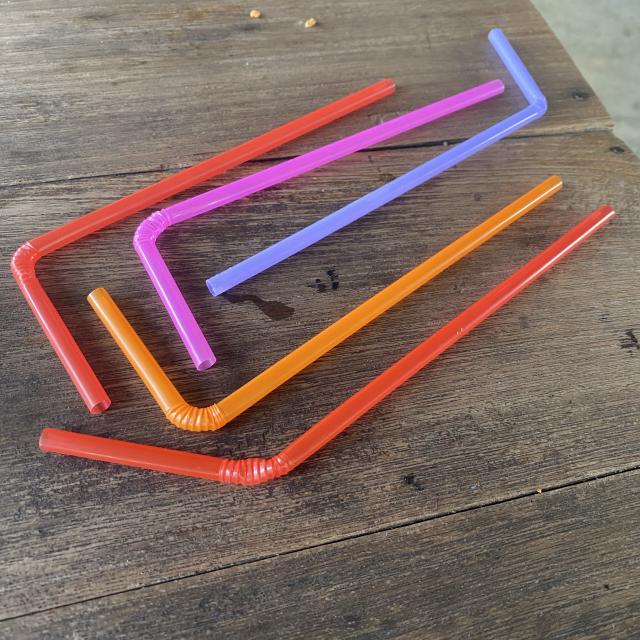Single-Use-Plastic: (40, 205, 615, 485), (11, 79, 395, 414), (88, 176, 562, 431), (134, 80, 504, 370), (206, 29, 548, 295)
